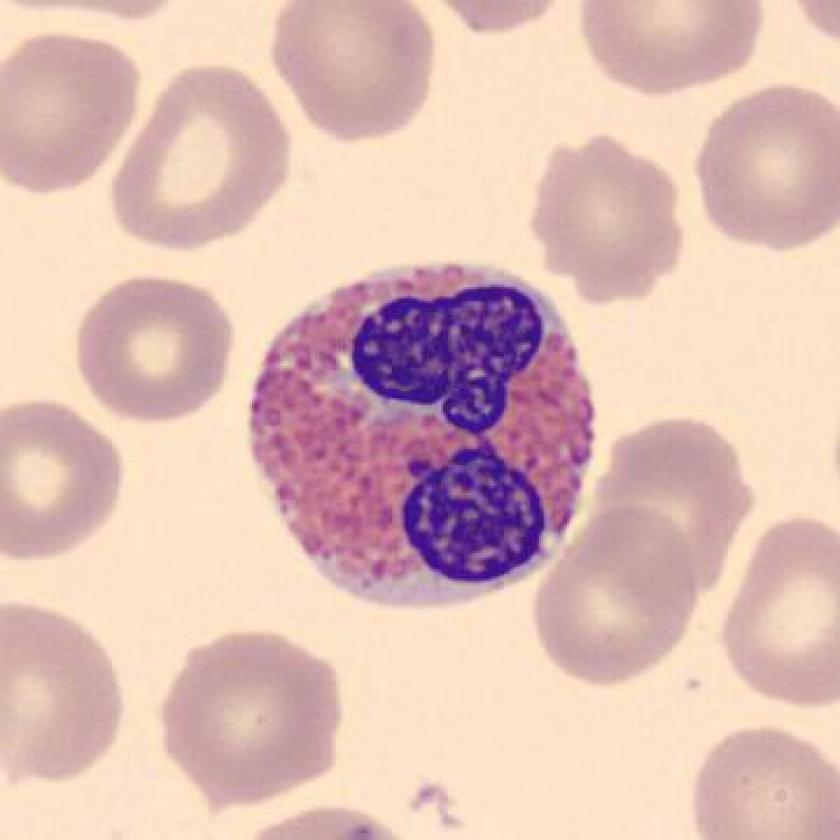eosinophil: (237, 244, 610, 623)
